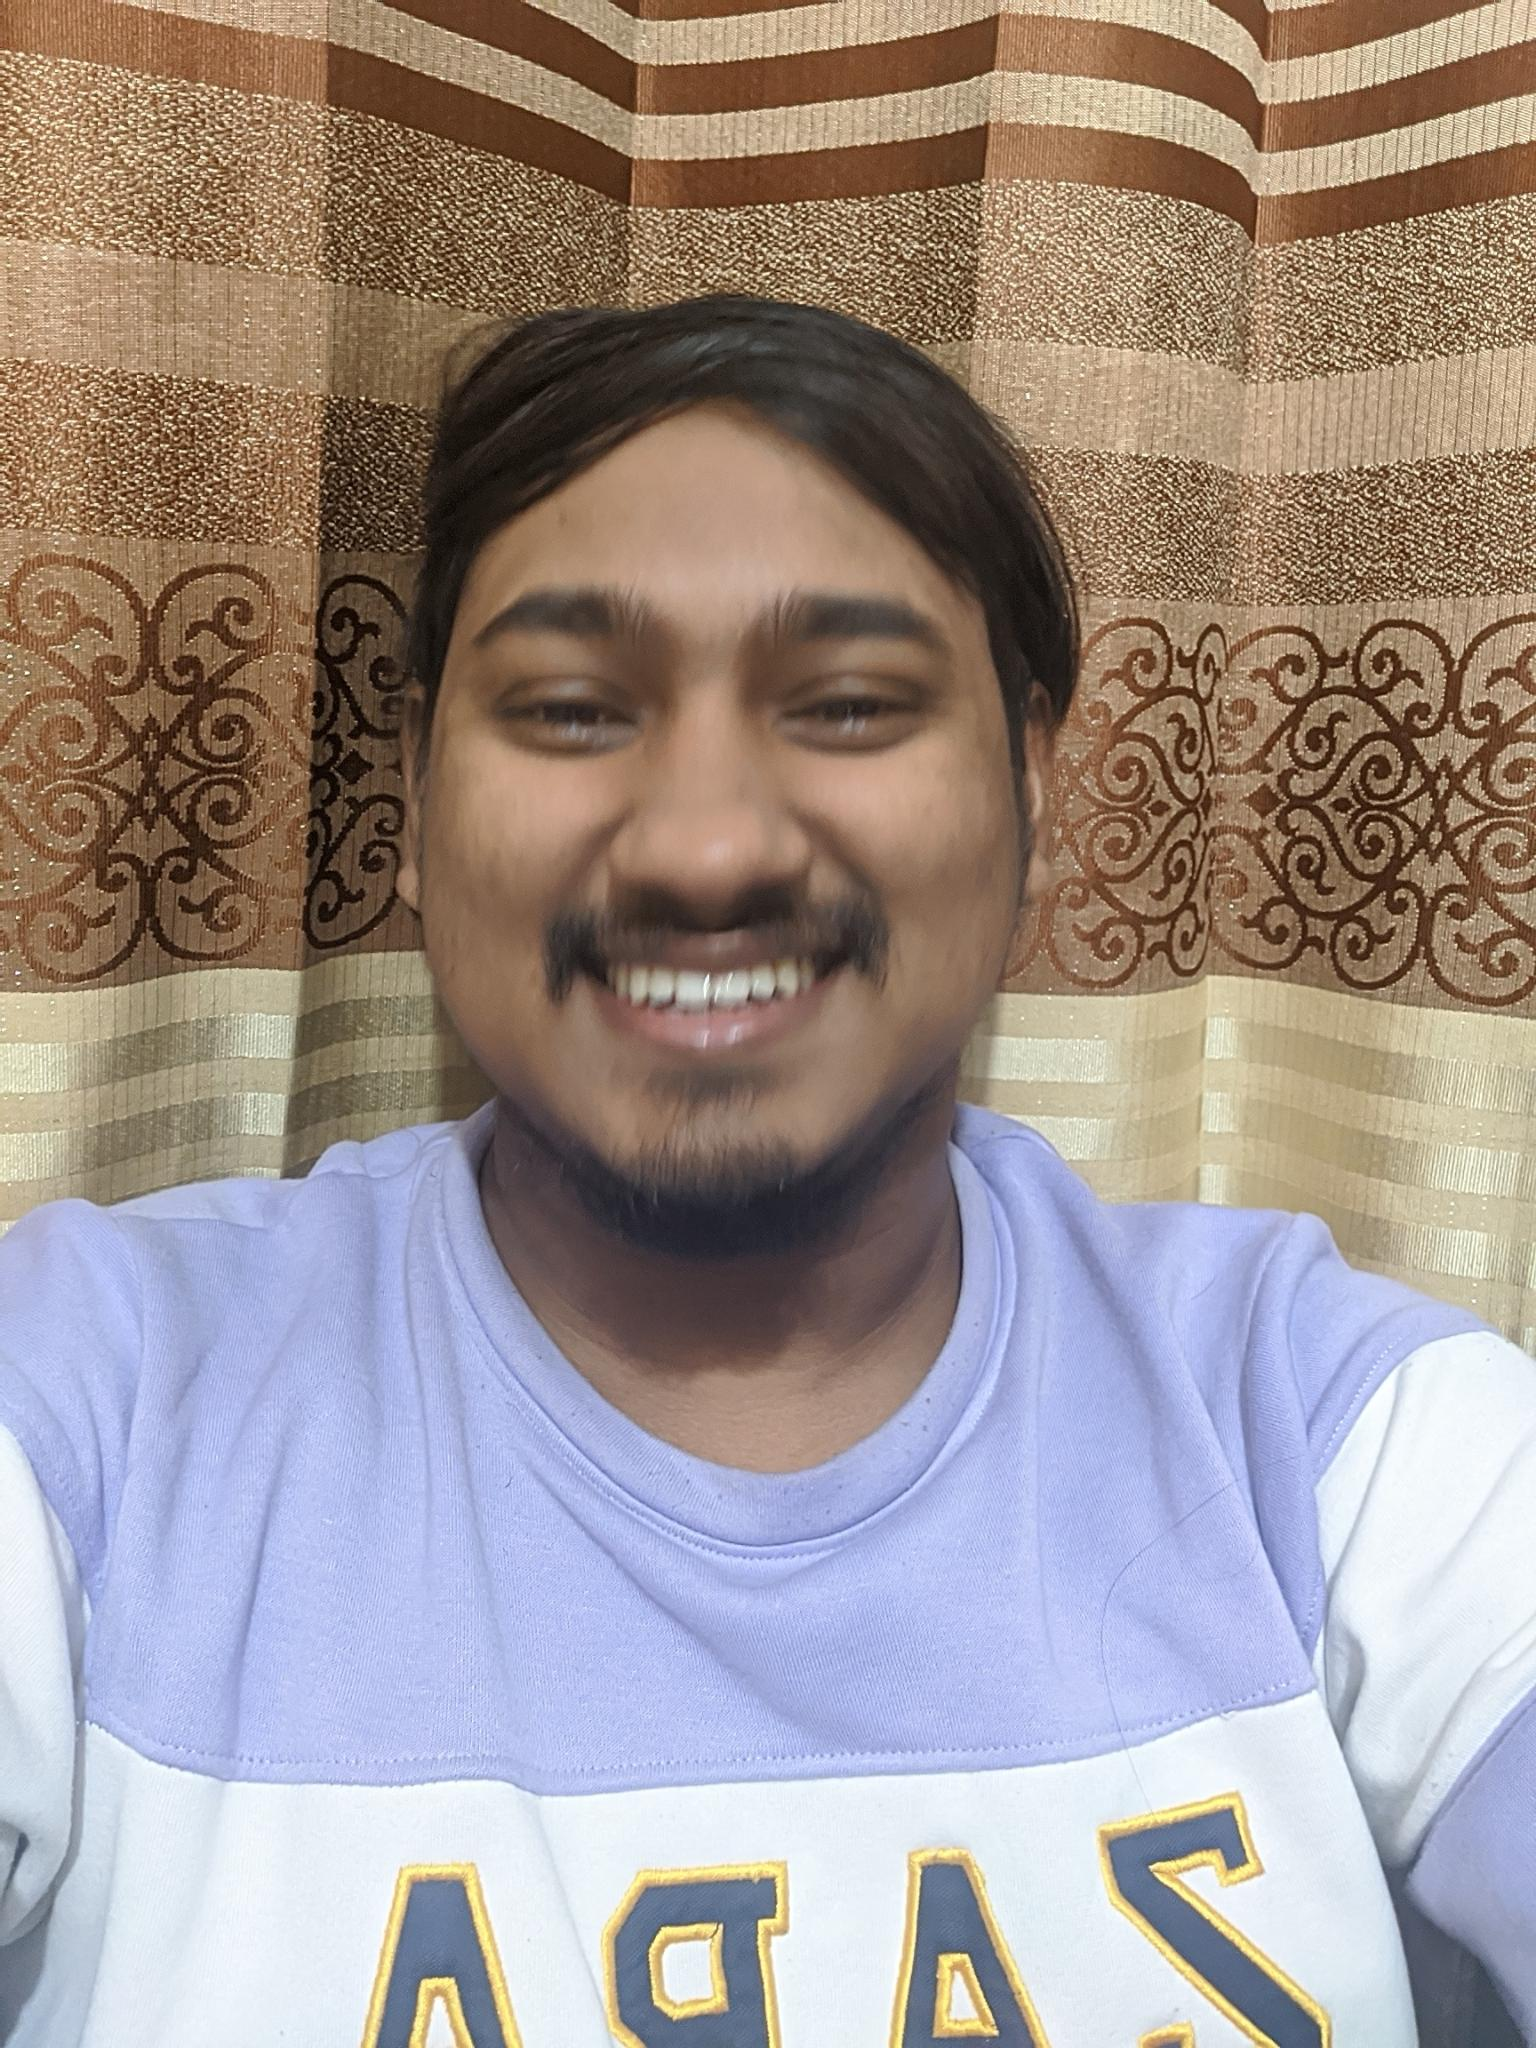Happy: (445, 513, 1007, 1180)
